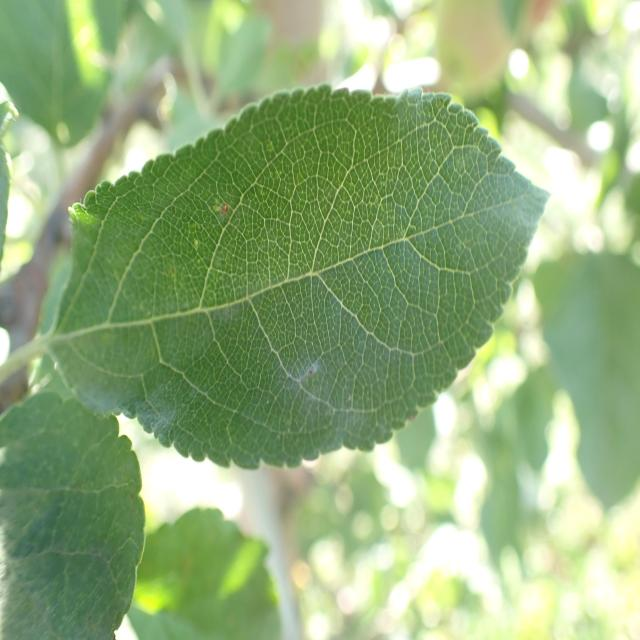Powdery_mildew: (68, 146, 544, 463)
